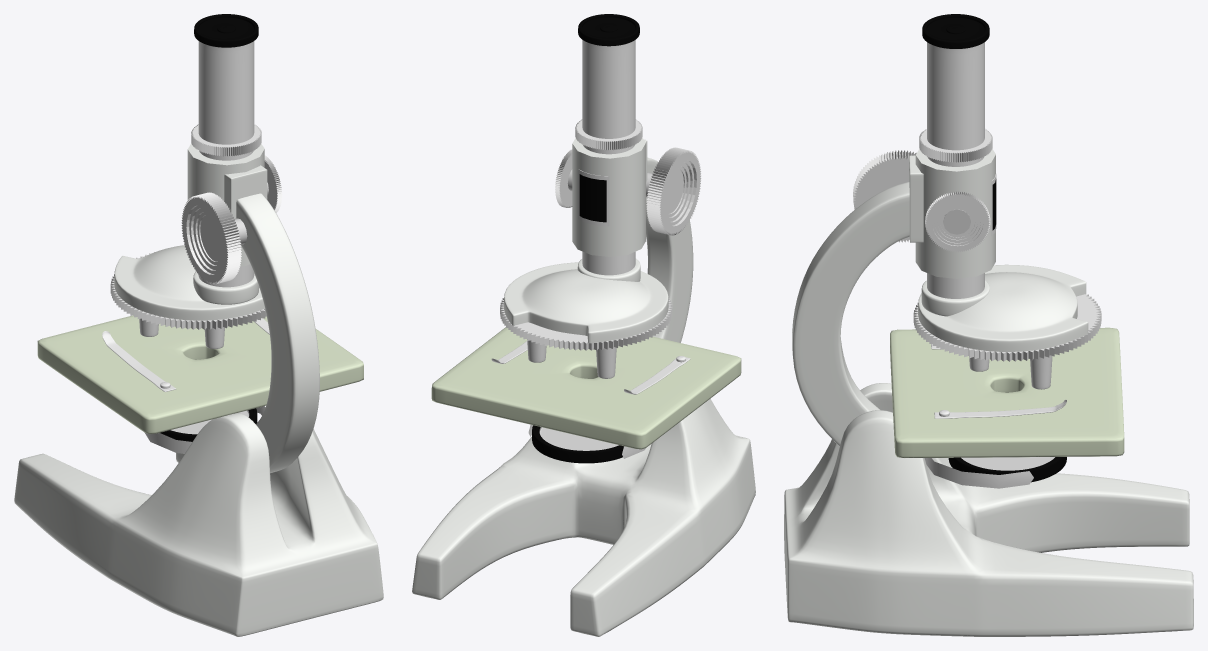
The model's file is microscopy.fbx.
The picture shows the model from 3 angles, left to right: view 1: azimuth 30°, elevation 25°; view 2: azimuth 150°, elevation 25°; view 3: azimuth 270°, elevation 25°; orthographic projection. The views are drawn at different scales.
Parts seen in each view (by area): view 1: ds409, ds412, ds410, ds425, ds417, ds415, ds426, ds434, ds411, ds418, ds433, ds413 (+3 smaller); view 2: ds409, ds412, ds417, ds425, ds426, ds410, ds415, ds422, ds434, ds432, ds433, ds416 (+3 smaller); view 3: ds409, ds412, ds410, ds417, ds425, ds426, ds416, ds434, ds415, ds422, ds431, ds411 (+4 smaller).
Boxes of the visible parts, x1,y1,x2,y2 form: ds409: [14, 413, 383, 636]; ds412: [37, 315, 363, 434]; ds410: [236, 193, 319, 473]; ds425: [194, 14, 258, 287]; ds417: [114, 245, 264, 320]; ds415: [181, 192, 241, 284]; ds426: [187, 143, 264, 266]; ds434: [110, 252, 266, 329]; ds411: [224, 165, 267, 218]; ds418: [193, 271, 259, 304]; ds433: [191, 124, 261, 156]; ds413: [102, 331, 175, 391]; ds409: [412, 398, 755, 636]; ds412: [431, 327, 741, 449]; ds417: [503, 262, 668, 343]; ds425: [578, 14, 639, 275]; ds426: [572, 138, 645, 256]; ds410: [646, 157, 693, 342]; ds415: [646, 147, 701, 235]; ds422: [532, 425, 623, 463]; ds434: [500, 298, 672, 350]; ds432: [578, 169, 609, 226]; ds433: [575, 119, 642, 149]; ds416: [555, 149, 572, 207]; ds409: [784, 383, 1193, 636]; ds412: [890, 327, 1124, 458]; ds410: [792, 182, 909, 446]; ds417: [918, 264, 1088, 352]; ds425: [922, 14, 989, 298]; ds426: [915, 149, 995, 278]; ds416: [925, 191, 990, 252]; ds434: [913, 294, 1101, 361]; ds415: [853, 150, 916, 242]; ds422: [948, 457, 1066, 482]; ds431: [925, 458, 1033, 488]; ds411: [909, 155, 923, 242].
Size of the model in its own units: 17.08 by 38.77 by 25.89.
